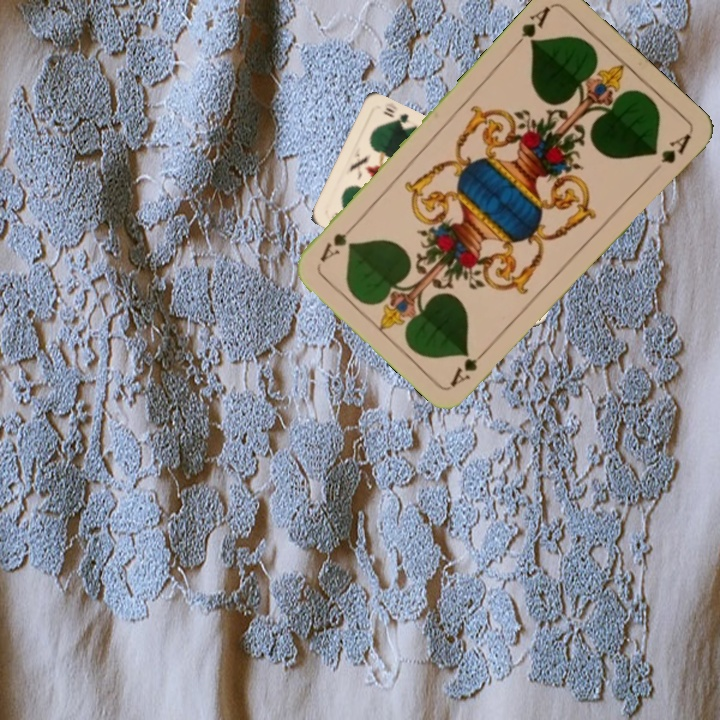GA: (446, 341, 493, 389), (508, 1, 553, 51)
